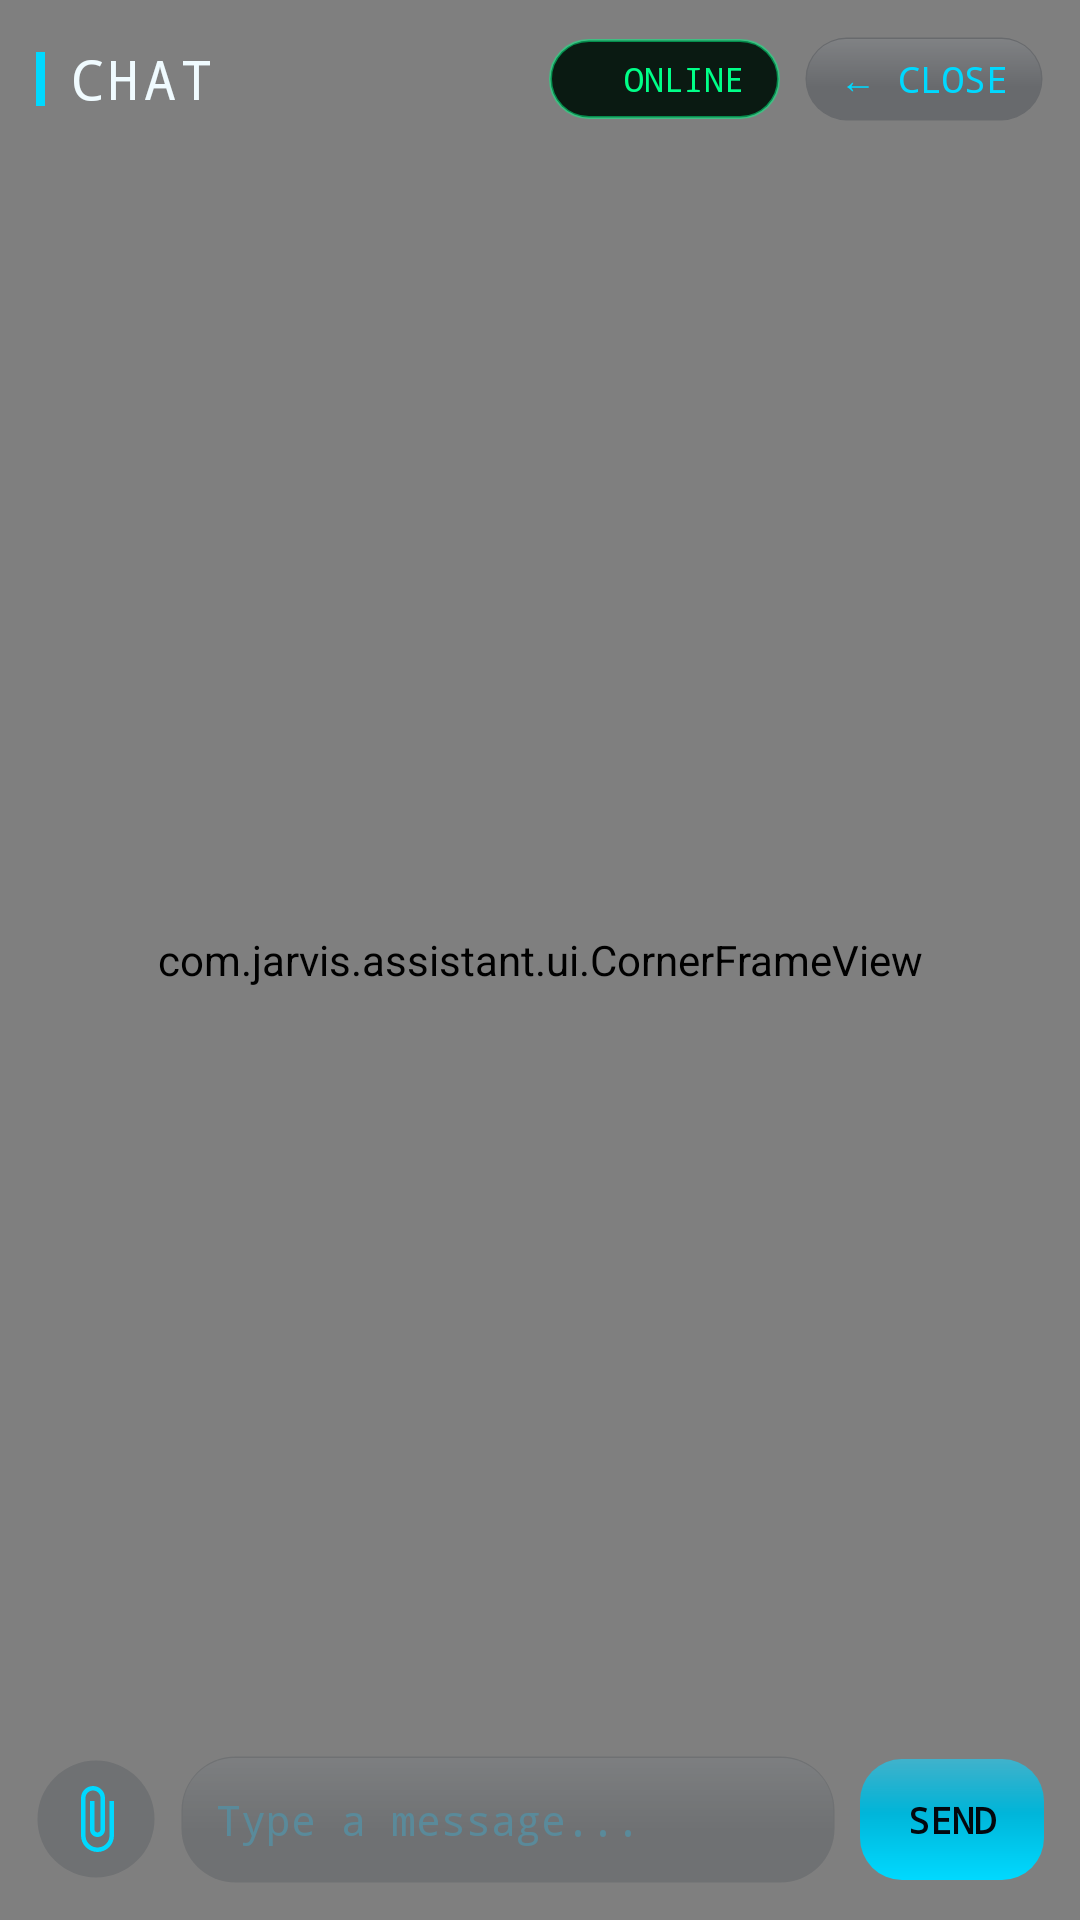

Locate icon controls on the screen. Image size 1080w x 1920h, boxes as (x1, y1, x2, y2).
attach: (81, 1786, 114, 1852)
